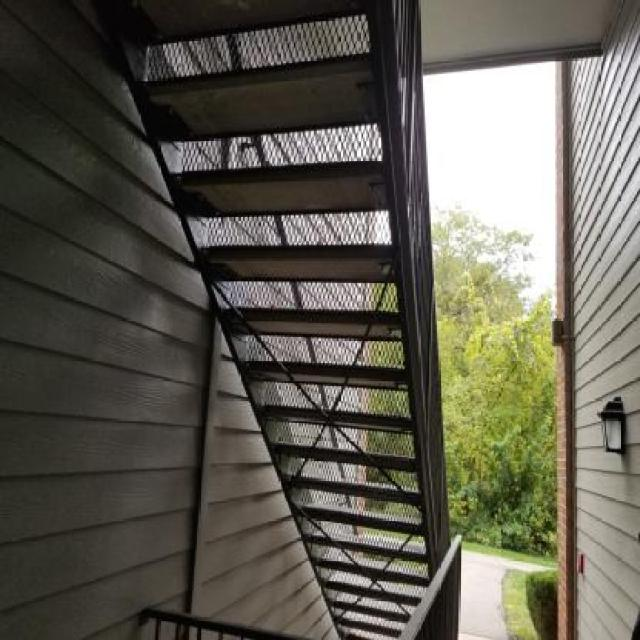stair: (88, 0, 492, 640)
